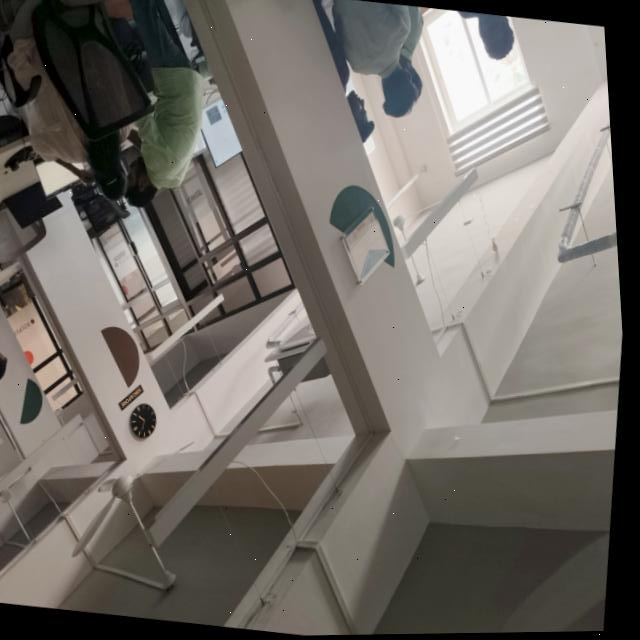fluorescent tube: (114, 311, 355, 582), (366, 154, 505, 275), (0, 399, 96, 543), (142, 279, 250, 378)
